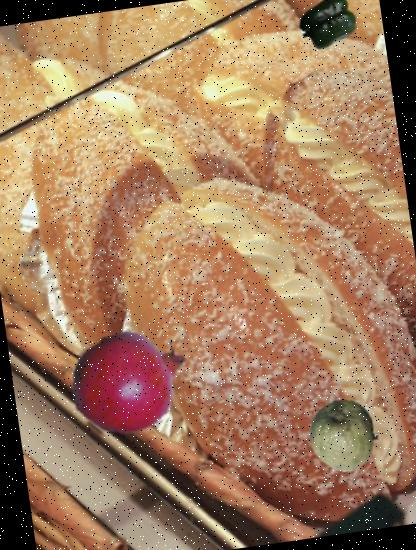Limes: (304, 395, 386, 477)
Pepper: (296, 0, 359, 53)
Pomegranate: (60, 312, 199, 451)
